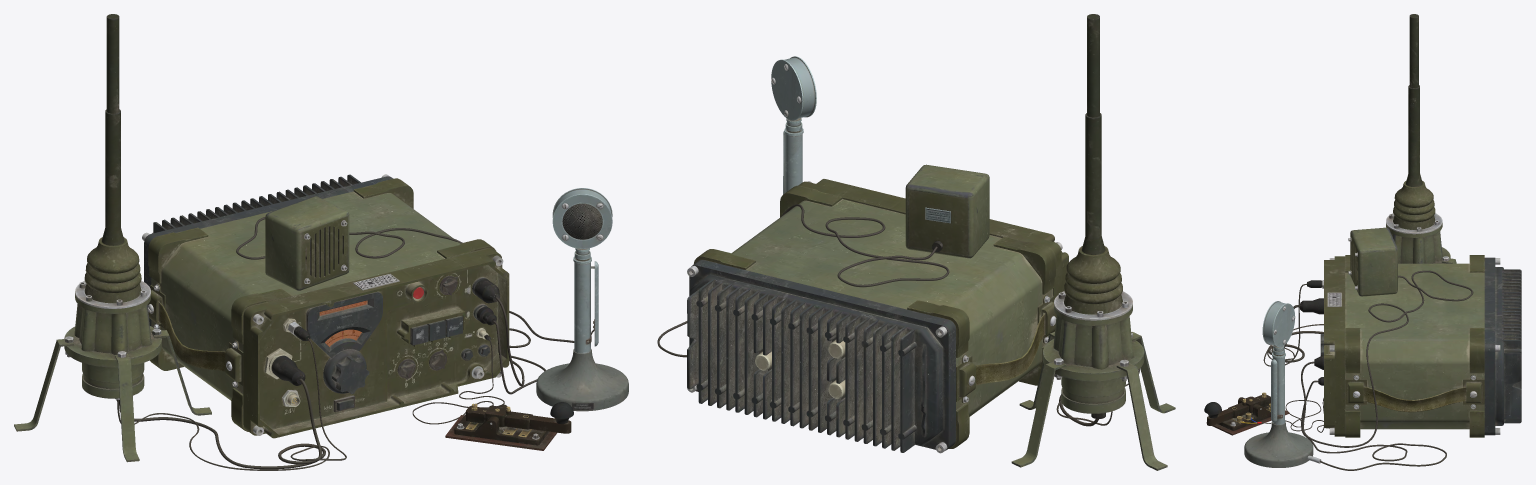
File: radio.glb
3 renders of one model, left to right at view 1: azimuth 30°, elevation 25°; view 2: azimuth 150°, elevation 25°; view 3: azimuth 270°, elevation 25°, orthographic. The views are drawn at different scales.
Parts seen in each view (by area): view 1: vintage_radio_transceiver, vintage_radio_transceiver_antenna, vintage_radio_transceiver_microphone, vintage_radio_transceiver_speaker, vintage_radio_transceiver_cables, vintage_radio_transceiver_morse_key_base, vintage_radio_transceiver_morse_key_arm, vintage_radio_transceiver_dial, vintage_radio_transceiver_antenna_plug_a; view 2: vintage_radio_transceiver, vintage_radio_transceiver_antenna, vintage_radio_transceiver_speaker, vintage_radio_transceiver_microphone, vintage_radio_transceiver_cables; view 3: vintage_radio_transceiver, vintage_radio_transceiver_antenna, vintage_radio_transceiver_microphone, vintage_radio_transceiver_cables, vintage_radio_transceiver_speaker, vintage_radio_transceiver_morse_key_arm, vintage_radio_transceiver_morse_key_base.
Part boxes in pixels (<box>): vintage_radio_transceiver: <box>142,174,509,438</box>; vintage_radio_transceiver_antenna: <box>14,14,211,462</box>; vintage_radio_transceiver_microphone: <box>536,188,628,411</box>; vintage_radio_transceiver_speaker: <box>265,196,349,290</box>; vintage_radio_transceiver_cables: <box>117,217,574,470</box>; vintage_radio_transceiver_morse_key_base: <box>445,404,557,450</box>; vintage_radio_transceiver_morse_key_arm: <box>466,402,573,433</box>; vintage_radio_transceiver_dial: <box>323,329,369,393</box>; vintage_radio_transceiver_antenna_plug_a: <box>271,355,305,385</box>; vintage_radio_transceiver: <box>687,179,1068,453</box>; vintage_radio_transceiver_antenna: <box>1011,14,1175,470</box>; vintage_radio_transceiver_speaker: <box>905,164,989,258</box>; vintage_radio_transceiver_microphone: <box>771,56,816,194</box>; vintage_radio_transceiver_cables: <box>657,204,1139,426</box>; vintage_radio_transceiver: <box>1324,255,1521,437</box>; vintage_radio_transceiver_antenna: <box>1386,14,1456,263</box>; vintage_radio_transceiver_microphone: <box>1244,301,1321,467</box>; vintage_radio_transceiver_cables: <box>1261,270,1473,470</box>; vintage_radio_transceiver_speaker: <box>1348,227,1397,296</box>; vintage_radio_transceiver_morse_key_arm: <box>1204,392,1270,425</box>; vintage_radio_transceiver_morse_key_base: <box>1206,397,1289,435</box>.
Bounding box in the file's own units: 0.574 × 0.4344 × 0.4131.
2 materials, 2 textured.
